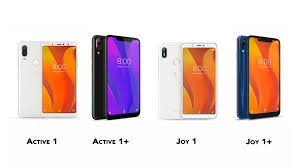vsmart: (18, 38, 80, 120), (157, 41, 218, 122), (89, 33, 142, 119), (232, 34, 283, 120)
